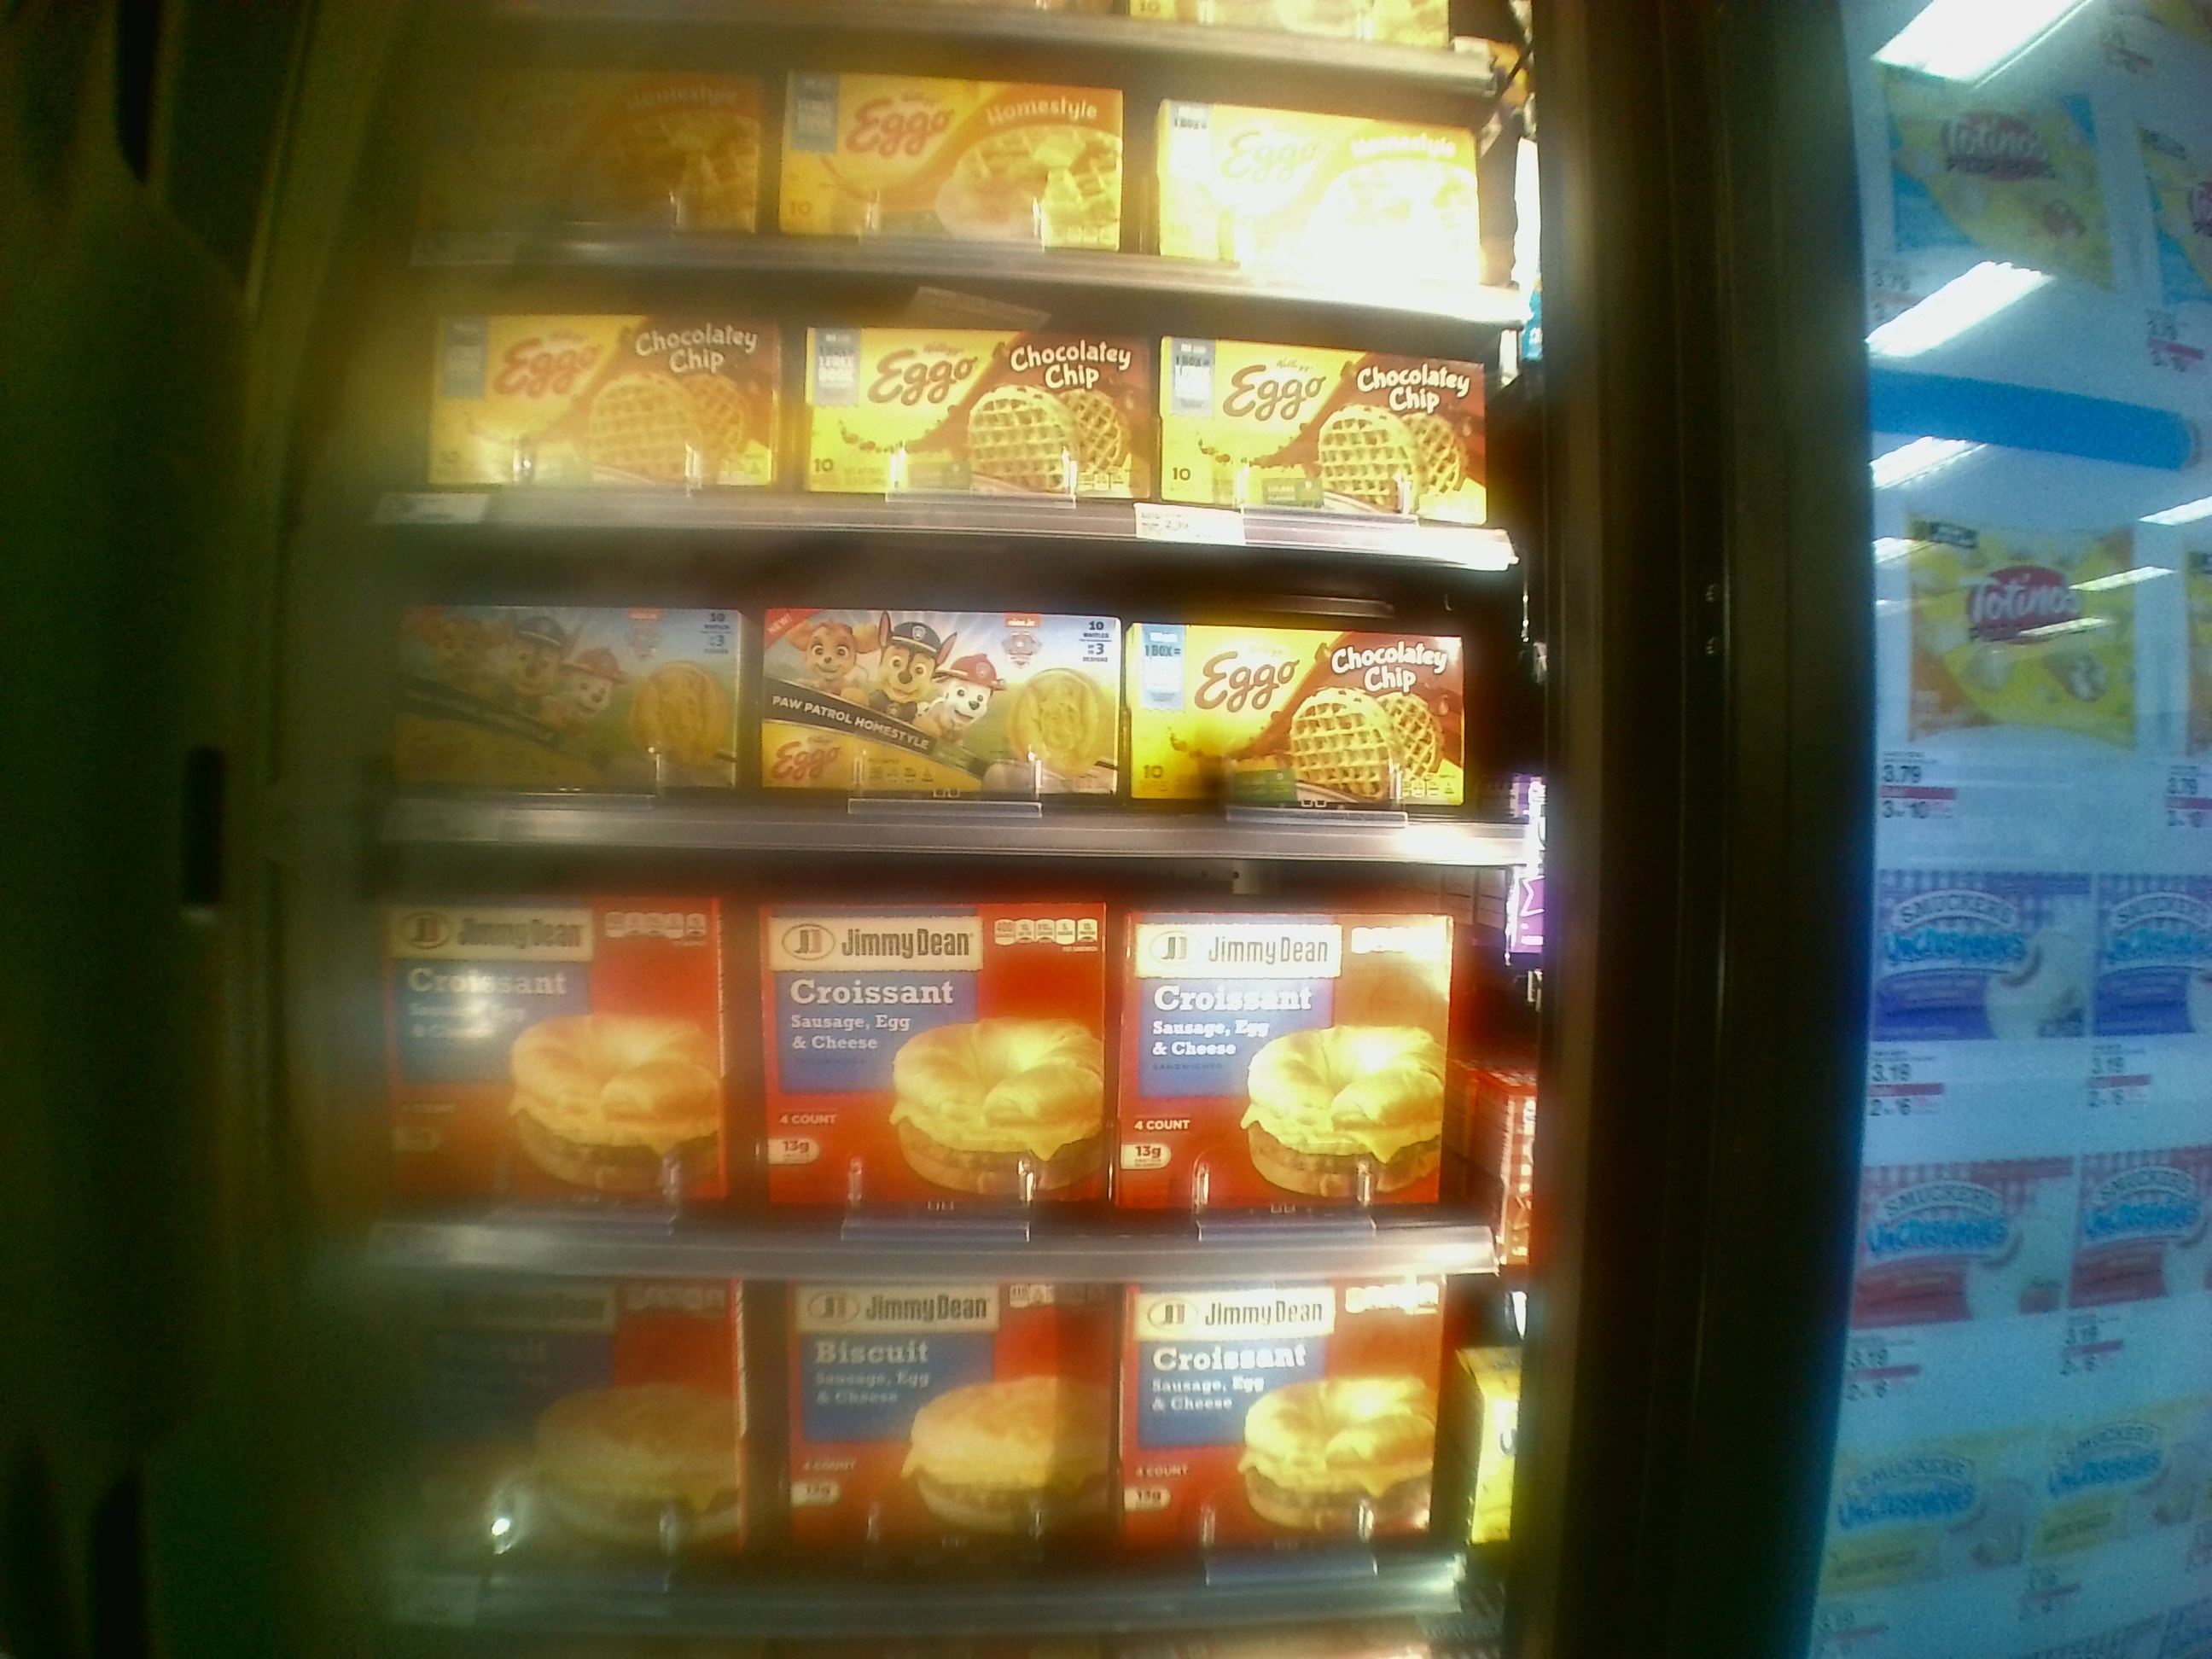shelf: (354, 836, 1493, 1279), (359, 526, 1496, 859)
